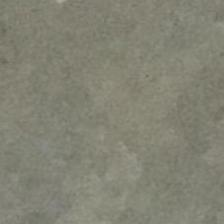Non_Crack: (22, 1, 206, 184)
